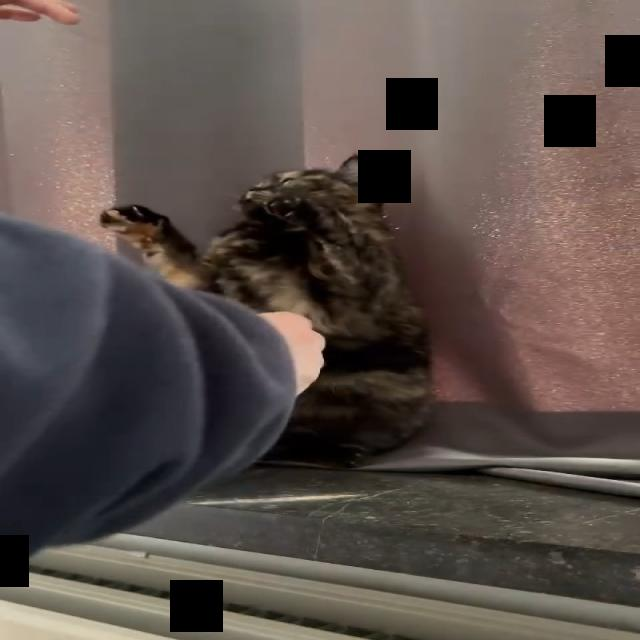authorized: (99, 152, 436, 468)
